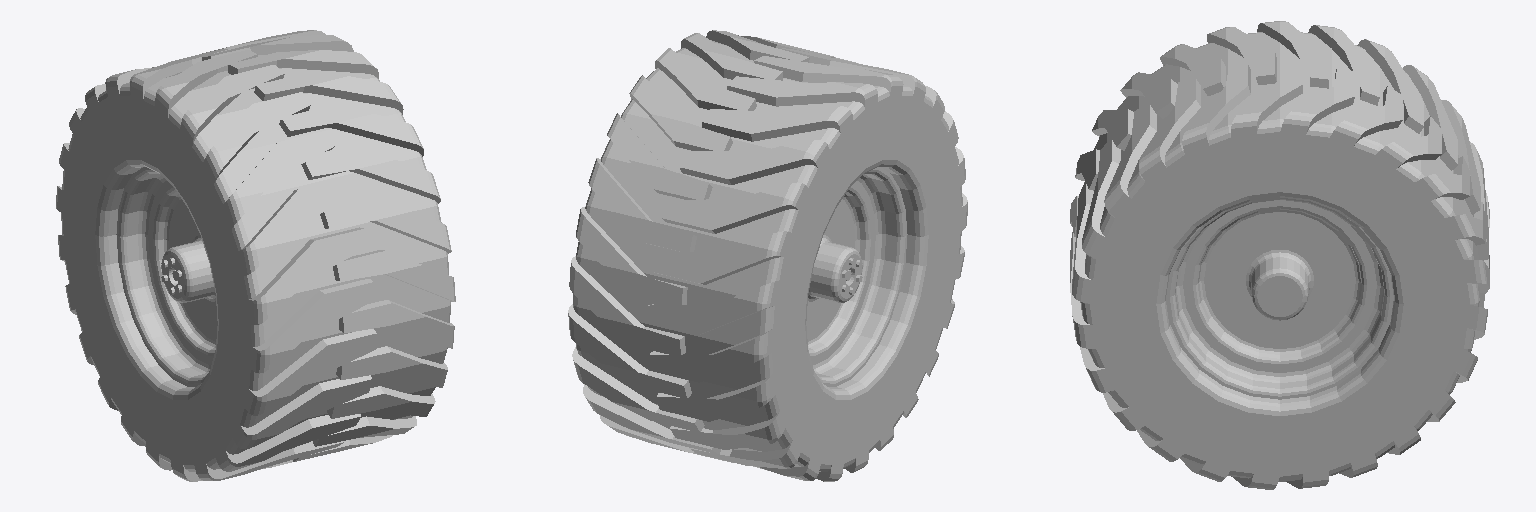
File: ExRWheel.obj
The picture shows the model from 3 angles: view 1: azimuth 30°, elevation 25°; view 2: azimuth 150°, elevation 25°; view 3: azimuth 270°, elevation 25°; orthographic projection.
Parts seen in each view (by area): view 1: Mesh3 Group3 G_02_1 Model, Mesh2 Group2 G_02_1 Model; view 2: Mesh3 Group3 G_02_1 Model, Mesh2 Group2 G_02_1 Model; view 3: Mesh3 Group3 G_02_1 Model, Mesh1 Group1 G_02_1 Model.
Part boxes in pixels (left/top/right/bottom): Mesh3 Group3 G_02_1 Model: left=56, top=30, right=455, bottom=481; Mesh2 Group2 G_02_1 Model: left=116, top=167, right=217, bottom=386; Mesh3 Group3 G_02_1 Model: left=568, top=30, right=967, bottom=481; Mesh2 Group2 G_02_1 Model: left=806, top=167, right=907, bottom=386; Mesh3 Group3 G_02_1 Model: left=1070, top=21, right=1489, bottom=489; Mesh1 Group1 G_02_1 Model: left=1166, top=198, right=1393, bottom=399.
Size of the model in its own units: 0.6 by 1.1 by 1.1.